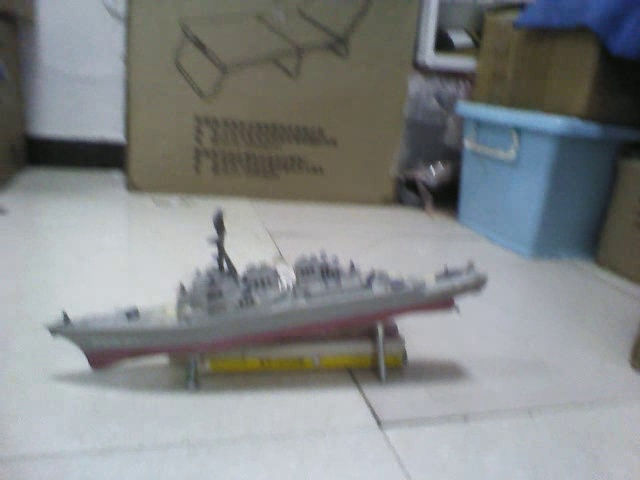warship: (40, 216, 497, 358)
